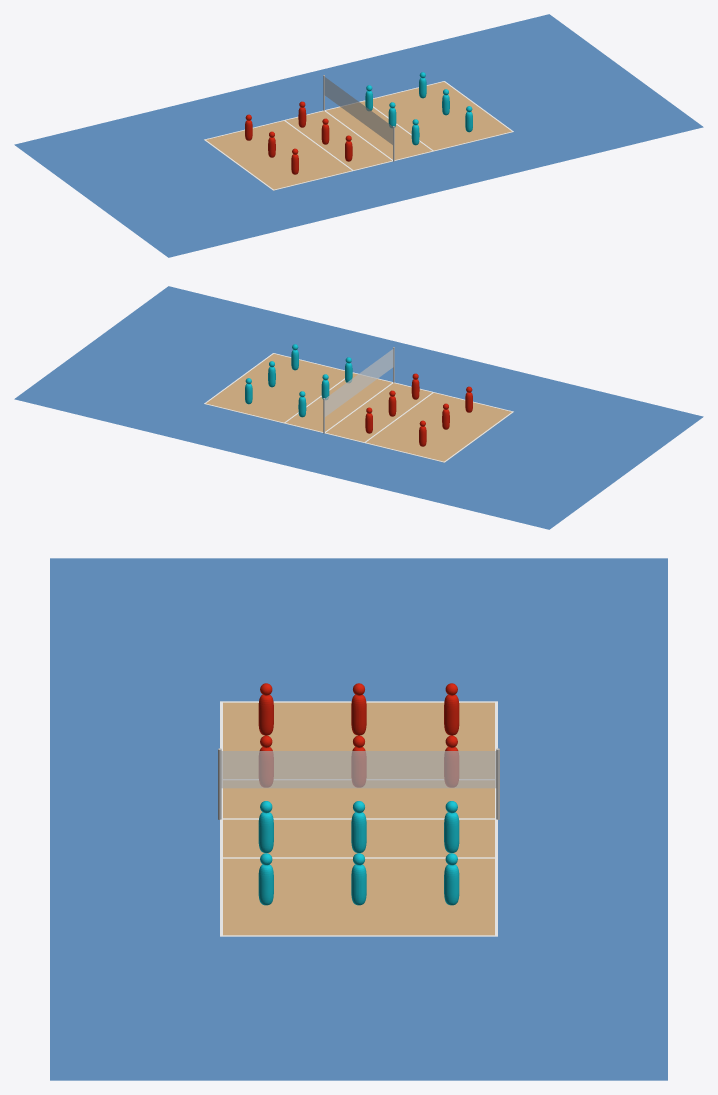
File: court.glb
The picture shows the model from 3 angles, top to bottom: view 1: azimuth 30°, elevation 25°; view 2: azimuth 150°, elevation 25°; view 3: azimuth 270°, elevation 25°; orthographic projection. The views are drawn at different scales.
Visible parts, largest first — view 1: Plane, Base, Net, Guidelines; view 2: Plane, Base, Net, Guidelines; view 3: Plane, Base, Net, Guidelines.
Boxes of the visible parts, x1=… form: Plane: x1=14, y1=14, x2=703, y2=257; Base: x1=206, y1=82, x2=511, y2=190; Net: x1=324, y1=77, x2=392, y2=144; Guidelines: x1=204, y1=81, x2=513, y2=190; Plane: x1=14, y1=286, x2=703, y2=529; Base: x1=206, y1=354, x2=511, y2=462; Net: x1=325, y1=349, x2=393, y2=416; Guidelines: x1=204, y1=353, x2=513, y2=462; Plane: x1=50, y1=558, x2=667, y2=1080; Base: x1=223, y1=702, x2=494, y2=935; Net: x1=221, y1=751, x2=496, y2=788; Guidelines: x1=220, y1=701, x2=497, y2=936.
Bounding box in the file's own units: 40 × 2.51 × 20.
